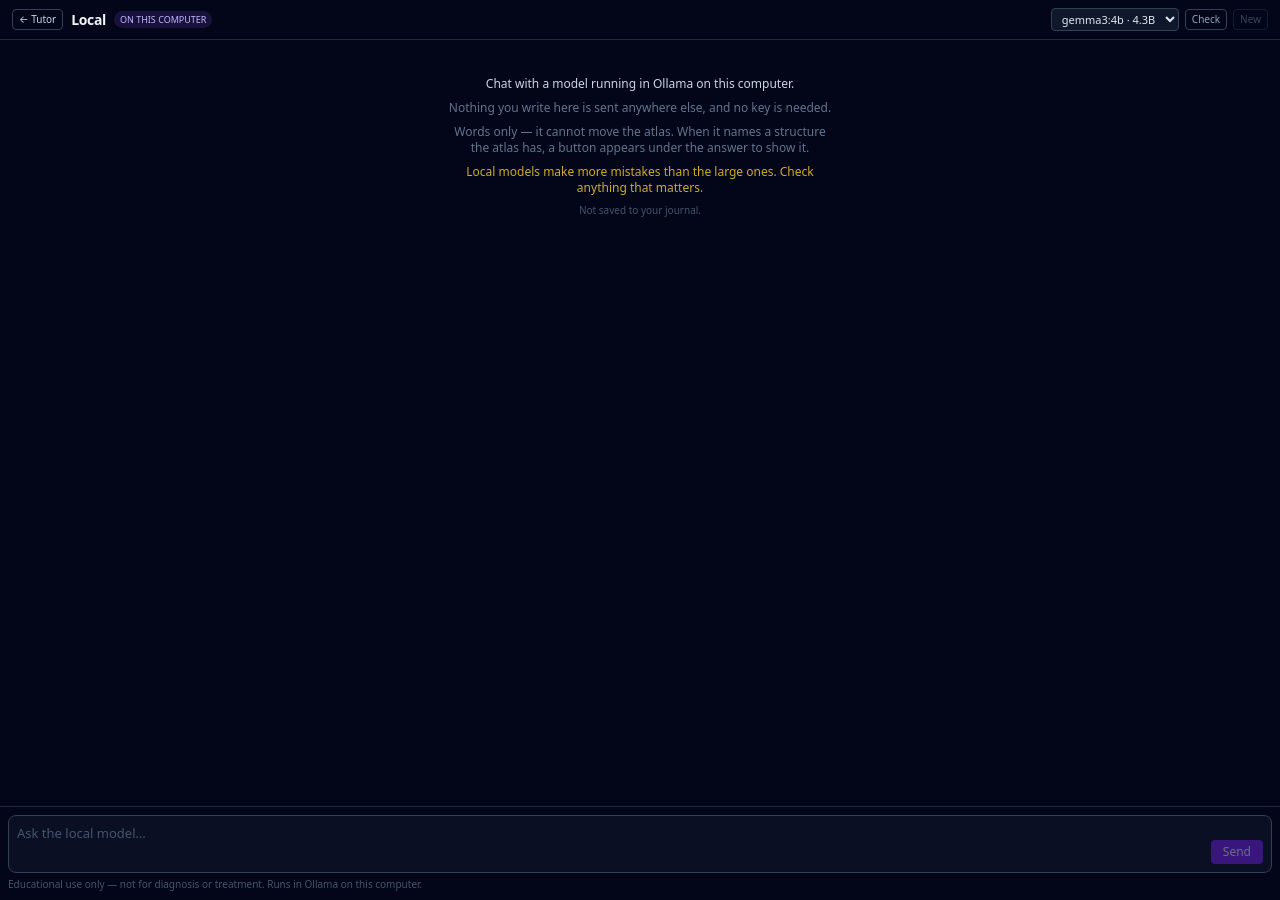
Test case: the local screen › hides a refused answer instead of showing half of it
The width and height of the screenshot is (1280, 900).
Step 1. Type "hola" into the text box with placeholder "Ask the local model…" → (610, 844), box [17,824,1203,864]
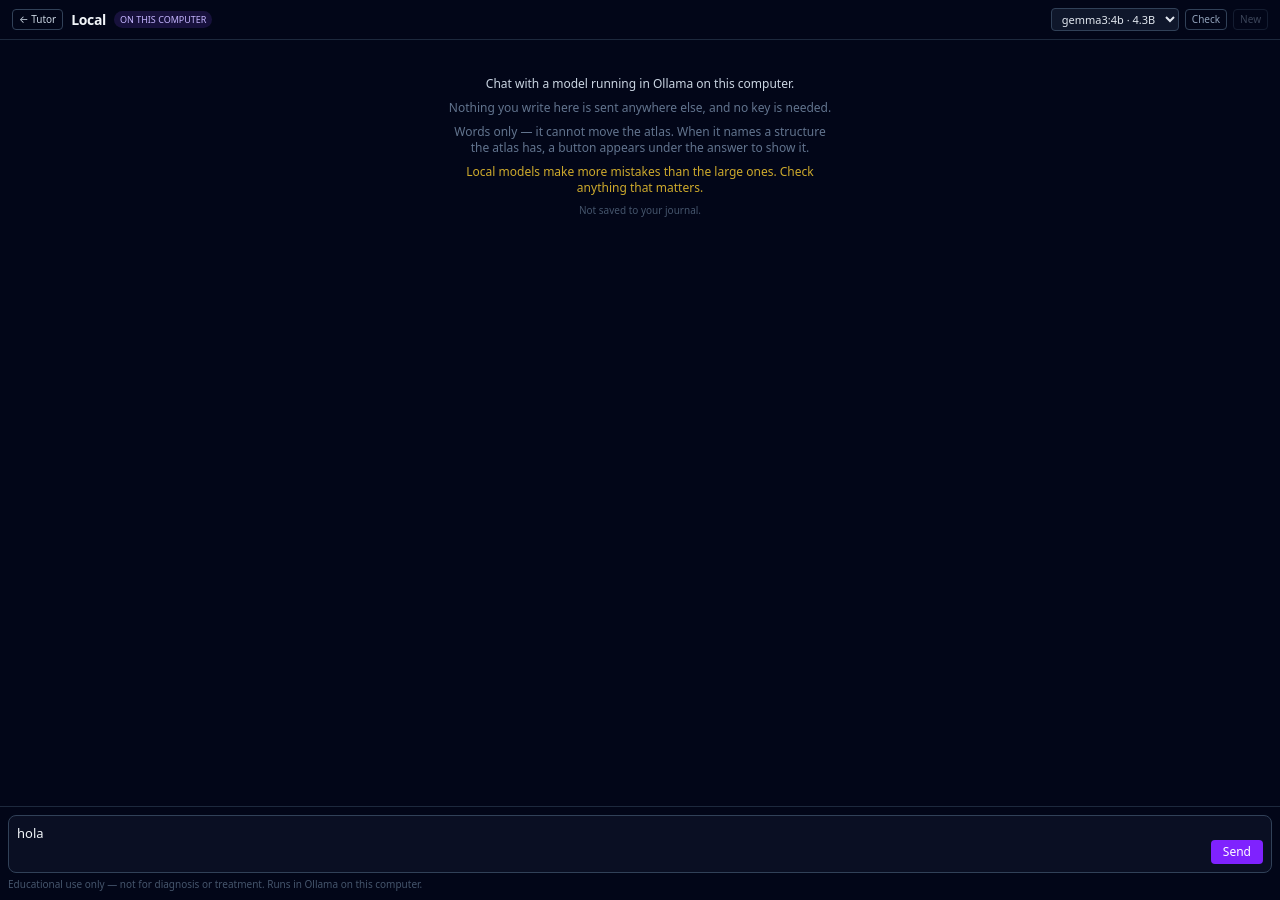
Step 2. Click the button "Send" → (1237, 852), box [1211,840,1263,864]
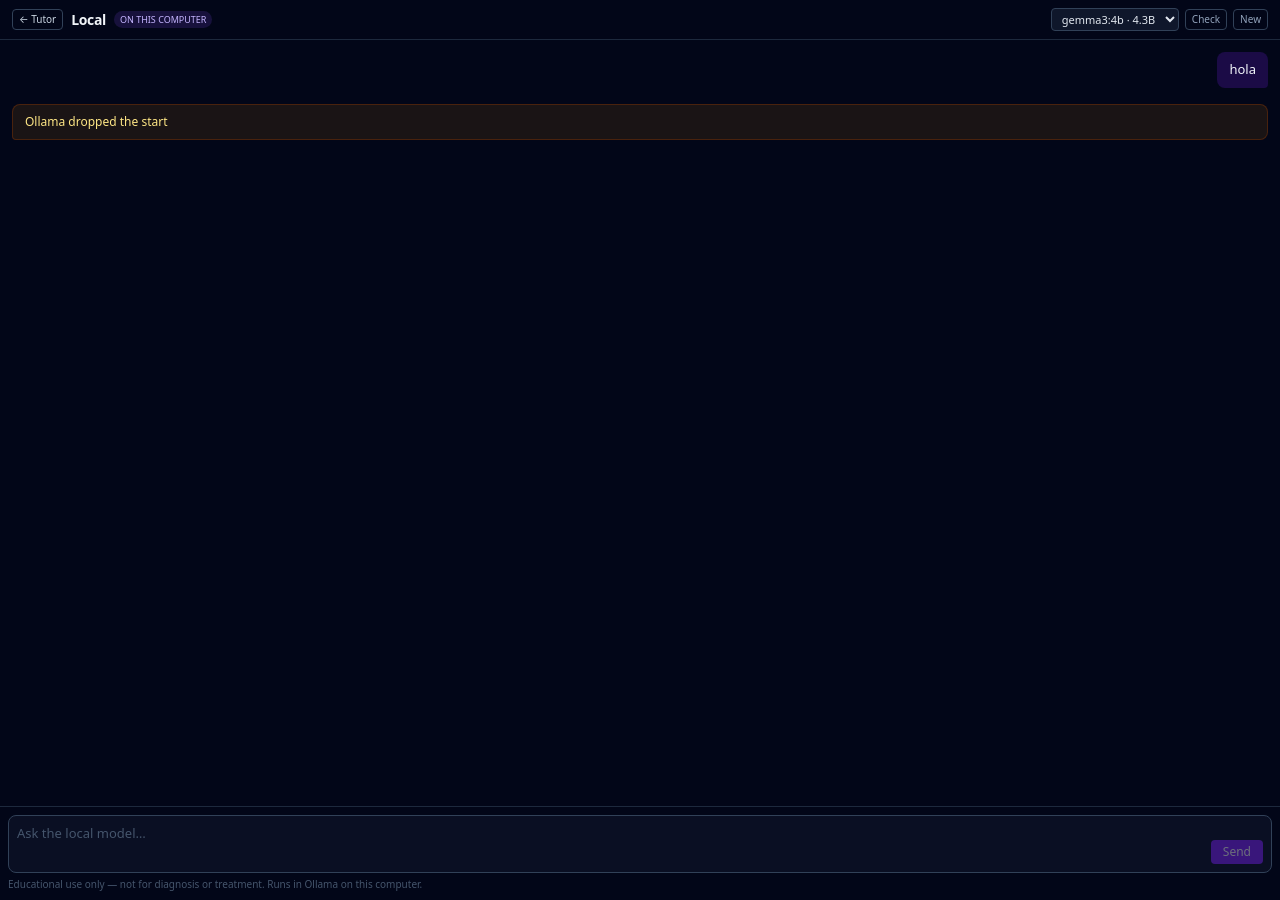
Now the text "Ollama dropped the start" is shown, box [12,104,1268,140]
